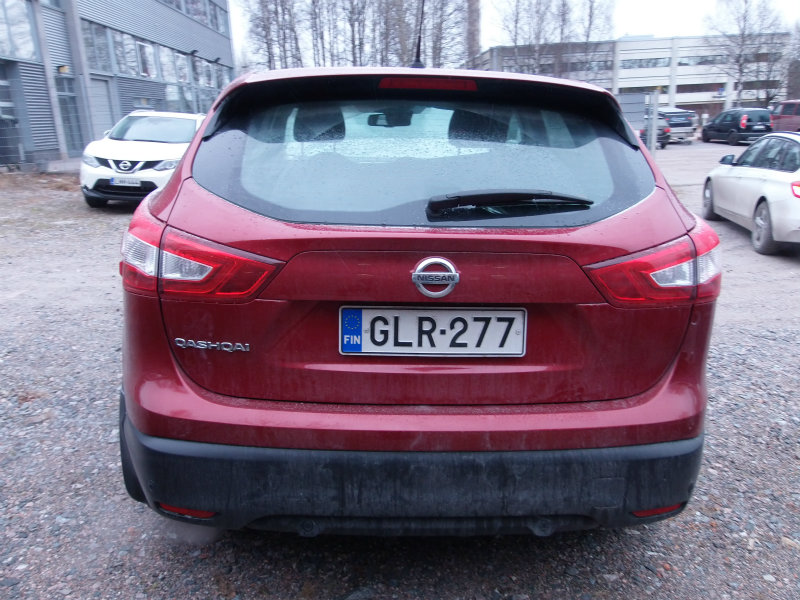license: (337, 310, 530, 355)
